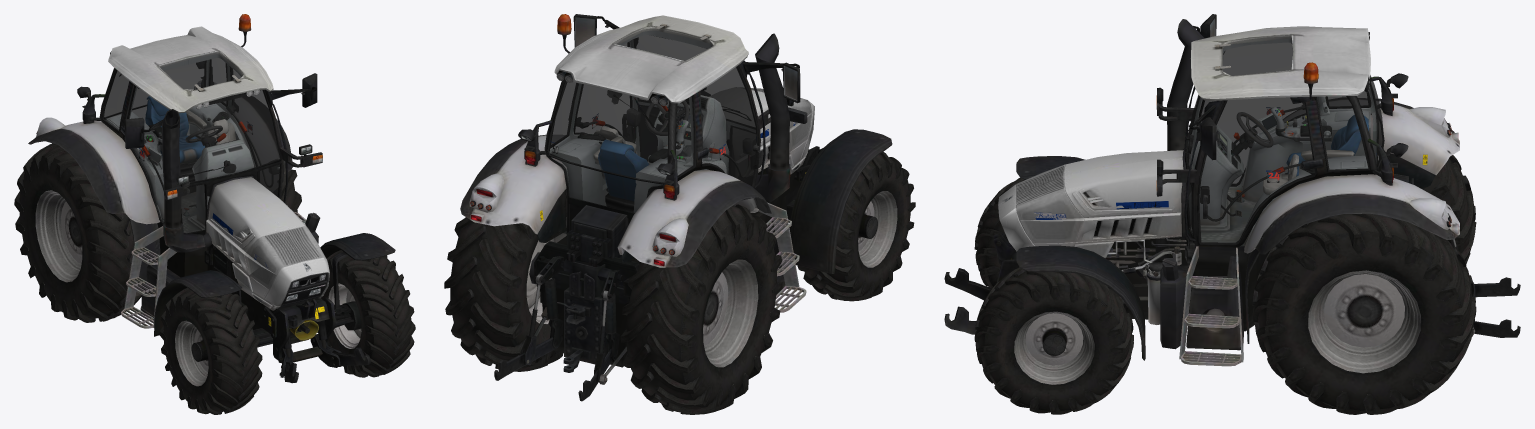
The model's file is gt_tractor_hi.glb.
The picture shows the model from 3 angles, left to right: view 1: azimuth 30°, elevation 25°; view 2: azimuth 150°, elevation 25°; view 3: azimuth 270°, elevation 25°; orthographic projection. The views are drawn at different scales.
Visible parts, largest first — view 1: lamborghini_BODY_Cuz_0, WHEEL_RR_TIRE, WINDOW_Lob_0, WHEEL_RF_TIRE, lamborghini_COCKPIT_Salon_0, WHEEL_LF_TIRE, WINDOW_IN_in_win_0, SUSP_LF_Cuz_0, SUSP_RF_Cuz_0, LIGHT_Cuz_0, WHEEL_LR_TIRE, lamborghini_Nacl_0; view 2: lamborghini_BODY_Cuz_0, WHEEL_RR_TIRE, WINDOW_Lob_0, WHEEL_LR_TIRE, lamborghini_COCKPIT_Salon_0, WHEEL_RF_TIRE, SUSP_RF_Cuz_0, WINDOW_IN_in_win_0, STEER_HR_Salon_0, MIRROR_L_MIRROR_0; view 3: lamborghini_BODY_Cuz_0, WHEEL_LR_TIRE, WHEEL_LF_TIRE, WINDOW_Lob_0, lamborghini_COCKPIT_Salon_0, SUSP_LF_Cuz_0, WINDOW_IN_in_win_0, WHEEL_RR_TIRE, WHEEL_RF_TIRE, SUSP_RF_Cuz_0, lamborghini_Nacl_0, STEER_HR_Salon_0.
Boxes of the visible parts, x1,y1,x2,y2 form: lamborghini_BODY_Cuz_0: (28,26,371,383); WHEEL_RR_TIRE: (14,143,141,322); WINDOW_Lob_0: (104,52,279,233); WHEEL_RF_TIRE: (159,287,290,414); lamborghini_COCKPIT_Salon_0: (106,54,279,232); WHEEL_LF_TIRE: (321,250,415,377); WINDOW_IN_in_win_0: (105,58,279,165); SUSP_LF_Cuz_0: (320,233,395,330); SUSP_RF_Cuz_0: (154,270,241,336); LIGHT_Cuz_0: (167,90,325,300); WHEEL_LR_TIRE: (280,169,301,212); lamborghini_Nacl_0: (139,87,324,326); lamborghini_BODY_Cuz_0: (460,14,819,401); WHEEL_RR_TIRE: (620,204,783,414); WINDOW_Lob_0: (549,29,757,212); WHEEL_LR_TIRE: (444,188,566,371); lamborghini_COCKPIT_Salon_0: (549,30,756,233); WHEEL_RF_TIRE: (797,151,915,301); SUSP_RF_Cuz_0: (789,129,892,273); WINDOW_IN_in_win_0: (552,35,755,184); STEER_HR_Salon_0: (645,98,689,135); MIRROR_L_MIRROR_0: (575,17,594,46); lamborghini_BODY_Cuz_0: (944,14,1520,366); WHEEL_LR_TIRE: (1252,213,1476,414); WHEEL_LF_TIRE: (974,267,1133,414); WINDOW_Lob_0: (1187,36,1384,242); lamborghini_COCKPIT_Salon_0: (1187,38,1377,246); SUSP_LF_Cuz_0: (1016,245,1145,360); WINDOW_IN_in_win_0: (1189,43,1382,182); WHEEL_RR_TIRE: (1423,155,1476,263); WHEEL_RF_TIRE: (974,177,1024,288); SUSP_RF_Cuz_0: (1016,156,1085,179); lamborghini_Nacl_0: (1002,109,1427,258); STEER_HR_Salon_0: (1236,112,1273,147).
Size of the model in its own units: 2.41 by 3.15 by 4.83.
7 materials, 5 textured.
